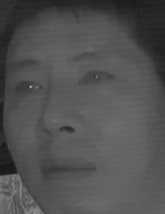eye: (76, 66, 116, 91), (10, 79, 44, 99)
mouth: (38, 152, 100, 185)
